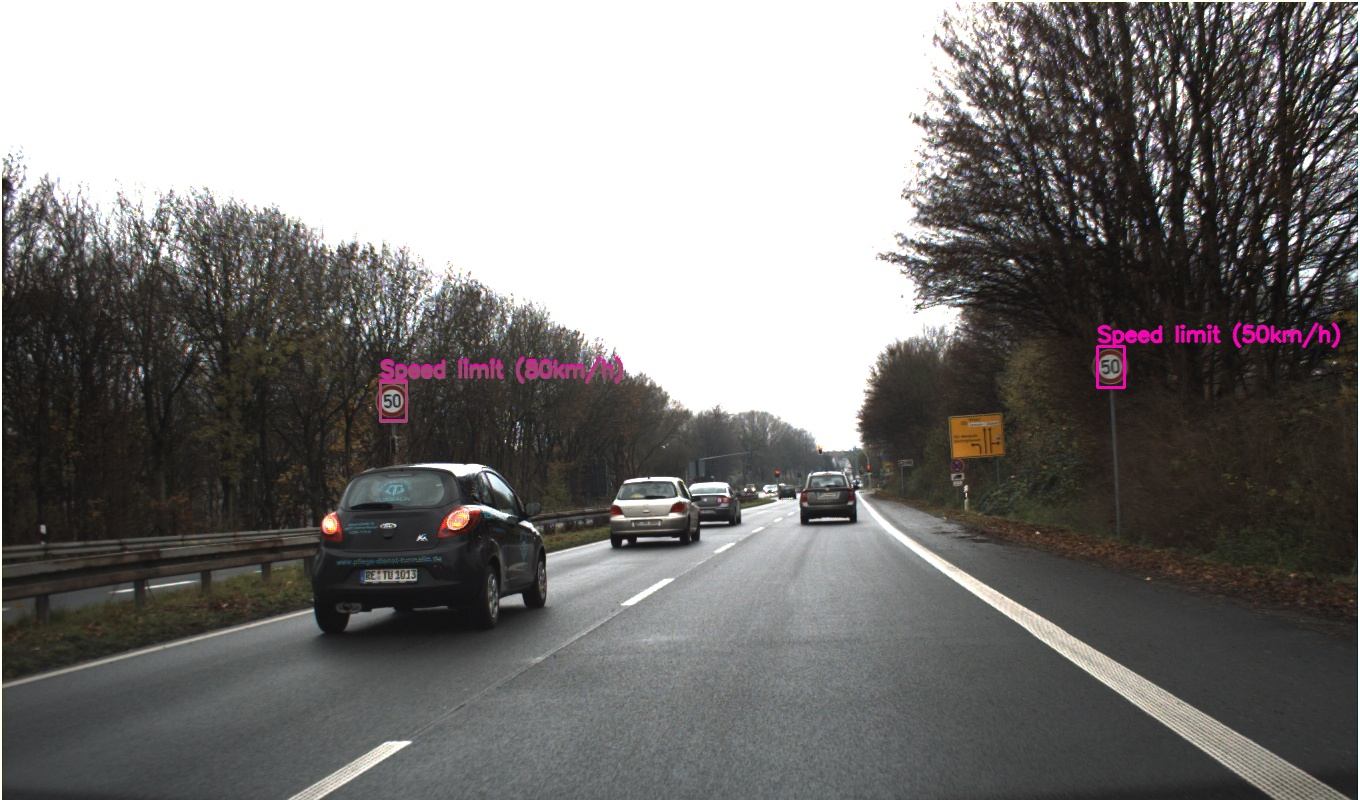No passing for vehicles over 3.5 metric tons: (311, 381, 354, 425), (1091, 354, 1134, 396)
